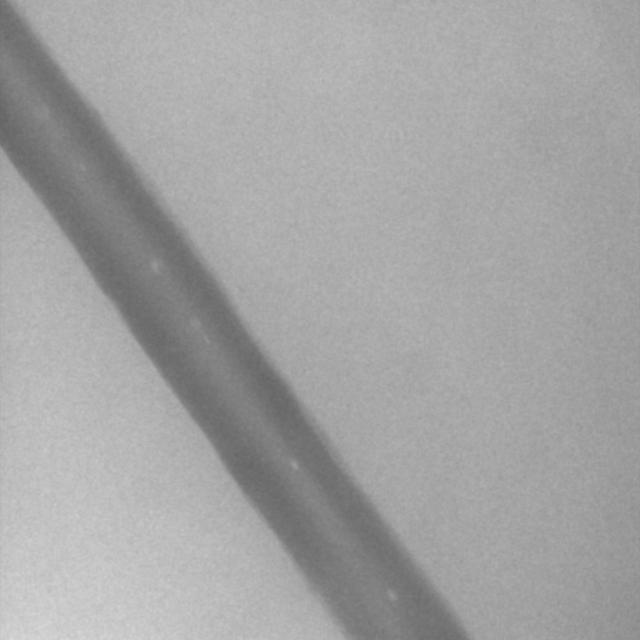air hole: (385, 585, 400, 603), (288, 455, 301, 472), (149, 257, 161, 273)
